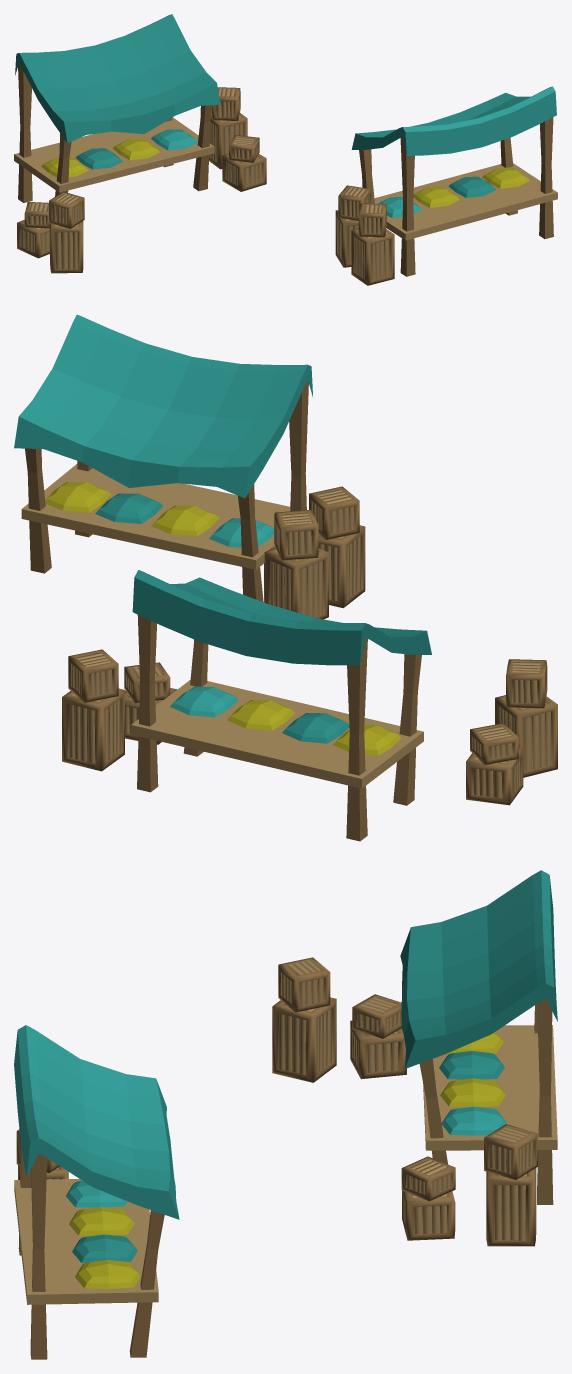
File: trade-post.glb
3 views of the same model, one above another, from view 1: azimuth 30°, elevation 25°; view 2: azimuth 150°, elevation 25°; view 3: azimuth 270°, elevation 25° (orthographic). The views are drawn at different scales.
Parts seen in each view (by area): view 1: Market_FirstAge_Level1; view 2: Market_FirstAge_Level1; view 3: Market_FirstAge_Level1.
Boxes of the visible parts, x1,y1,x2,y2 form: Market_FirstAge_Level1: (14, 14, 557, 285); Market_FirstAge_Level1: (14, 314, 557, 841); Market_FirstAge_Level1: (14, 870, 557, 1359).
Bounding box in the file's own units: 3 × 1.02 × 2.25.
